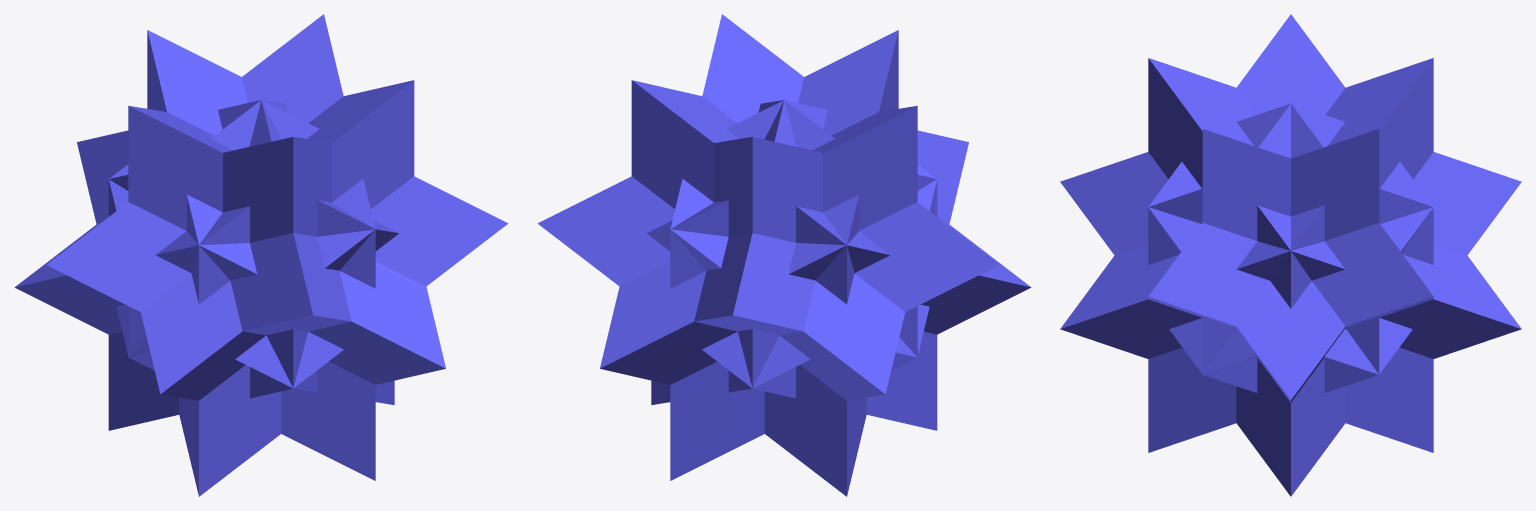
Rendered from great_rhombic_triacontahedron.obj.
3 views of the same model, side by side, from view 1: azimuth 30°, elevation 25°; view 2: azimuth 150°, elevation 25°; view 3: azimuth 270°, elevation 25° (orthographic). The views are drawn at different scales.
Visible parts, largest first — view 1: Shape_IndexedFaceSet; view 2: Shape_IndexedFaceSet; view 3: Shape_IndexedFaceSet.
Part boxes in pixels (x1,y1,x2,y2): Shape_IndexedFaceSet: (14, 14, 508, 496); Shape_IndexedFaceSet: (537, 14, 1031, 496); Shape_IndexedFaceSet: (1060, 14, 1521, 496).
Size of the model in its own units: 3.24 by 2.62 by 3.08.
